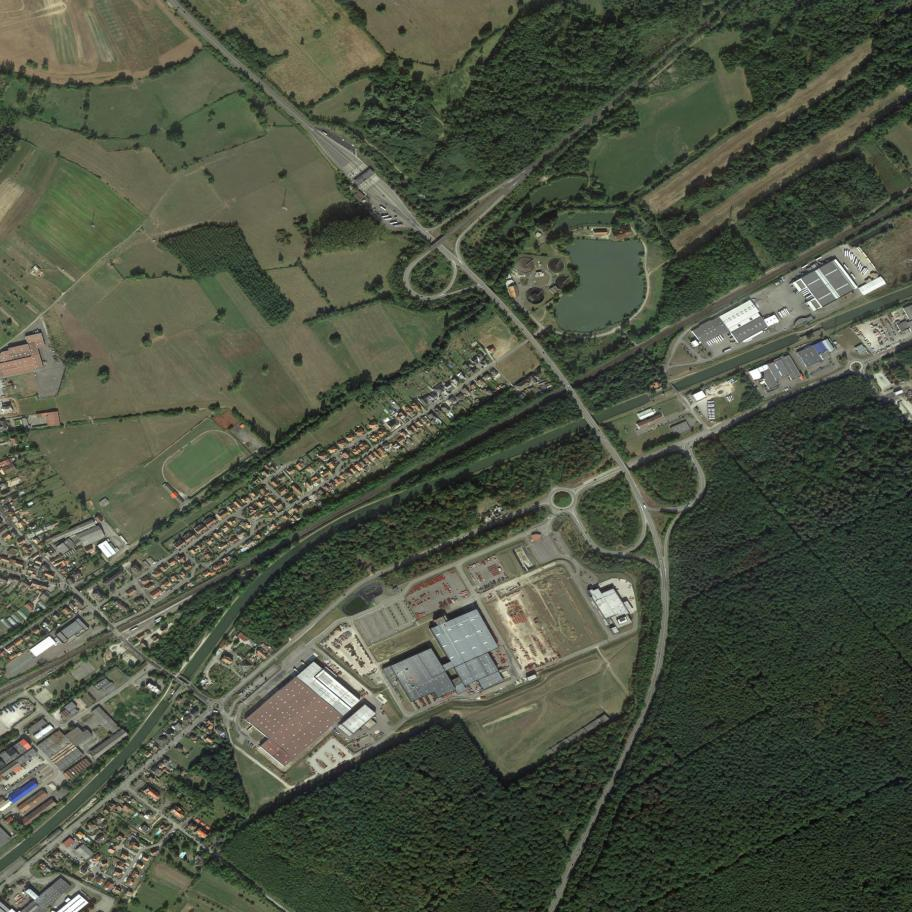storage-tank: (524, 286, 546, 305), (517, 257, 535, 273), (547, 258, 565, 273), (557, 275, 574, 289)
